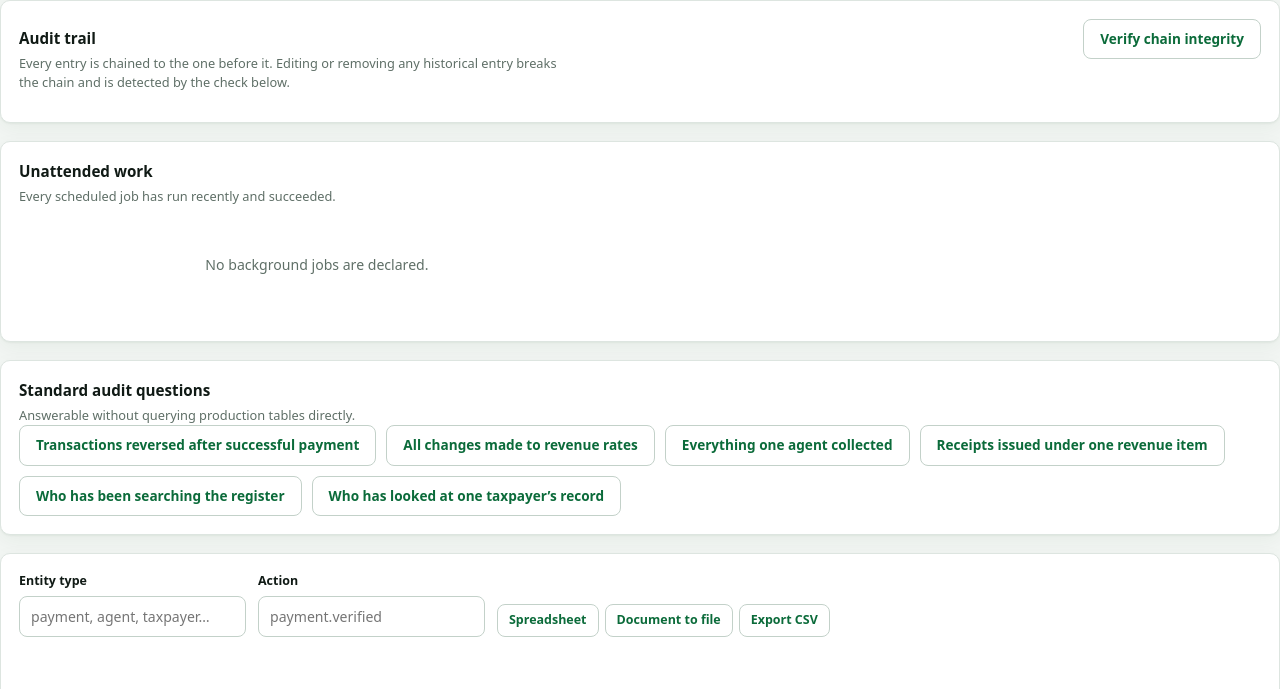
Test: the agent picker says when it is not every agent › says so when the list comes back at its ceiling
Check: the heading "Unattended work" is shown, box left=19, top=161, right=153, bottom=181
Step 1. Click the button "Everything one agent collected" → (787, 446), box left=665, top=425, right=910, bottom=466
(page scrolled)
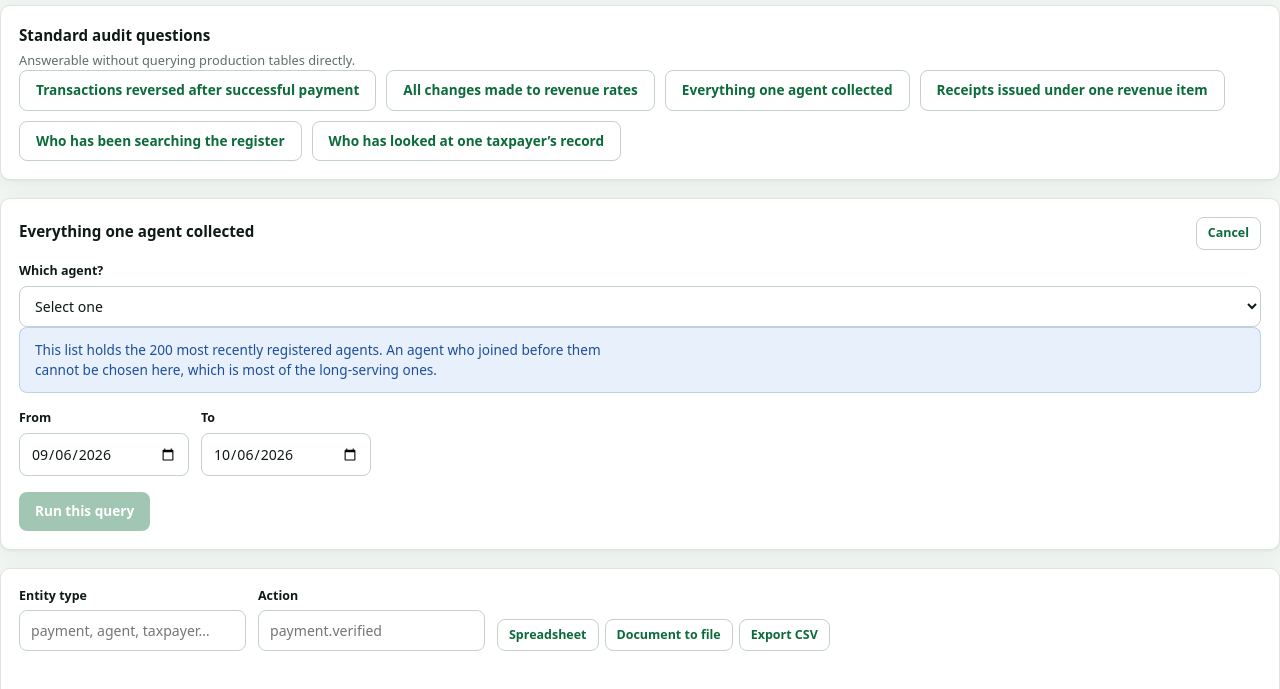
Check: the dropdown labelled "Which agent?" is shown, box left=19, top=286, right=1261, bottom=327
Check: the text "most recently registered agents" is shown, box left=35, top=340, right=601, bottom=379
